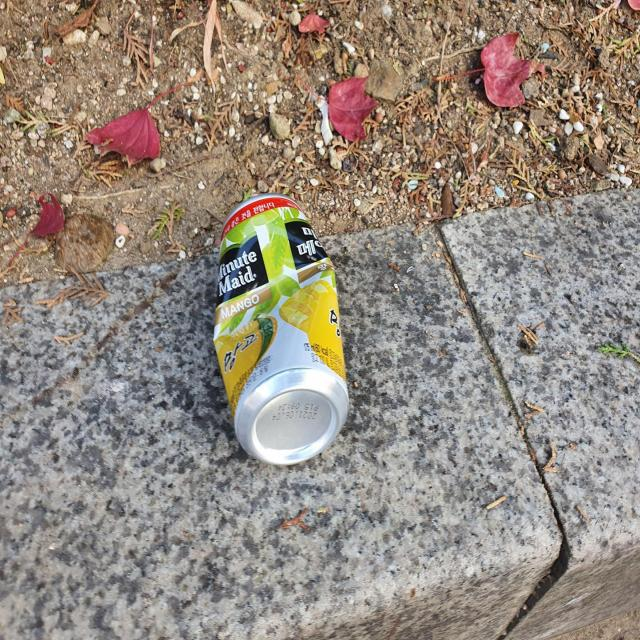can: (214, 194, 349, 465)
